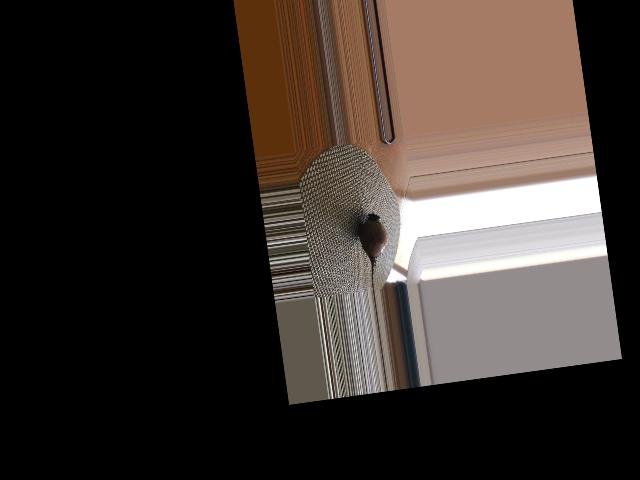beet: (356, 211, 394, 290)
